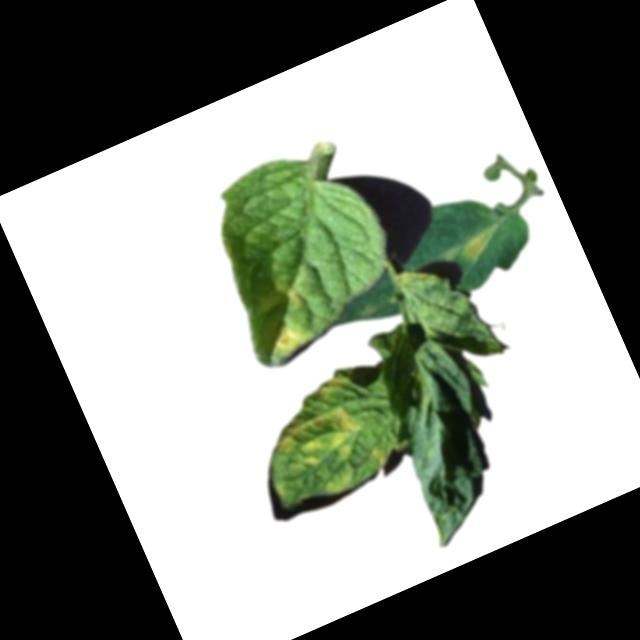Leaf_Mold: (258, 374, 367, 480), (437, 221, 507, 271), (272, 317, 315, 358), (320, 467, 359, 500), (284, 280, 309, 311), (369, 444, 394, 470)
